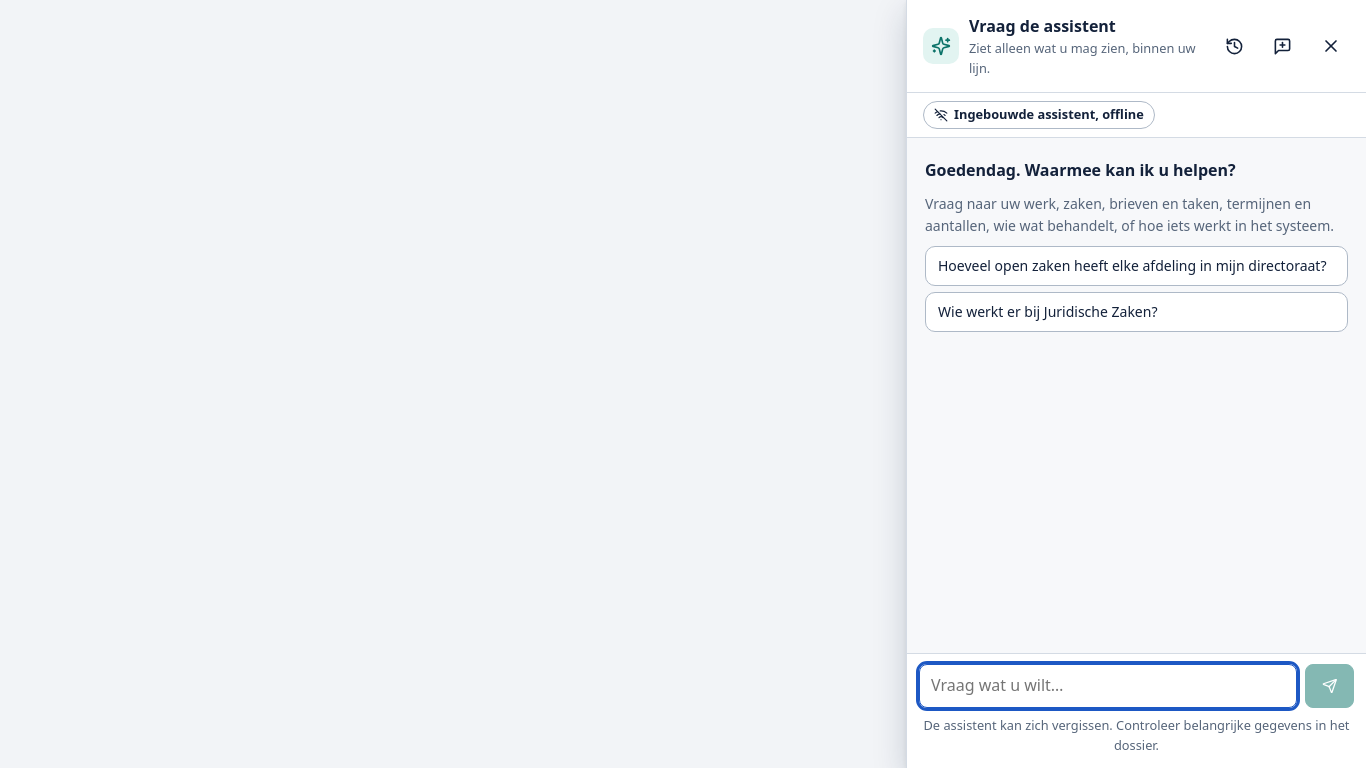
Test case: Assistant panel (V0.4.0, GPT-style) › says it is the built-in assistant when no language model is configured, with a notice when it took over
Expected: the text "Ingebouwde assistent, offline" is shown, [923,102,1155,129]
Type "mijn werk" into the text box named "Vraag aan de assistent" at point(1108, 686), box [919,664,1296,708]
Then press Enter
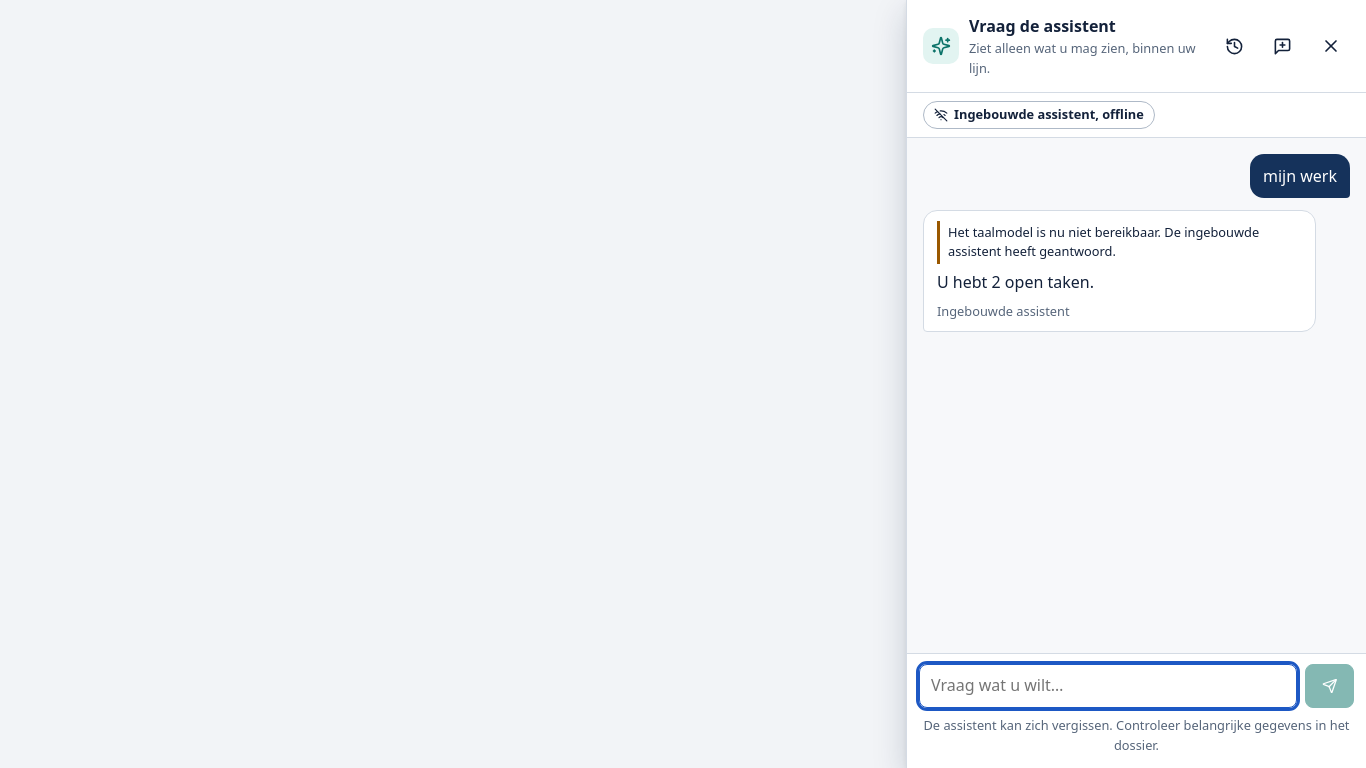
Result: the text "niet bereikbaar. De ingebouwde assistent heeft geantwoord" is shown at [948,223,1262,260]
